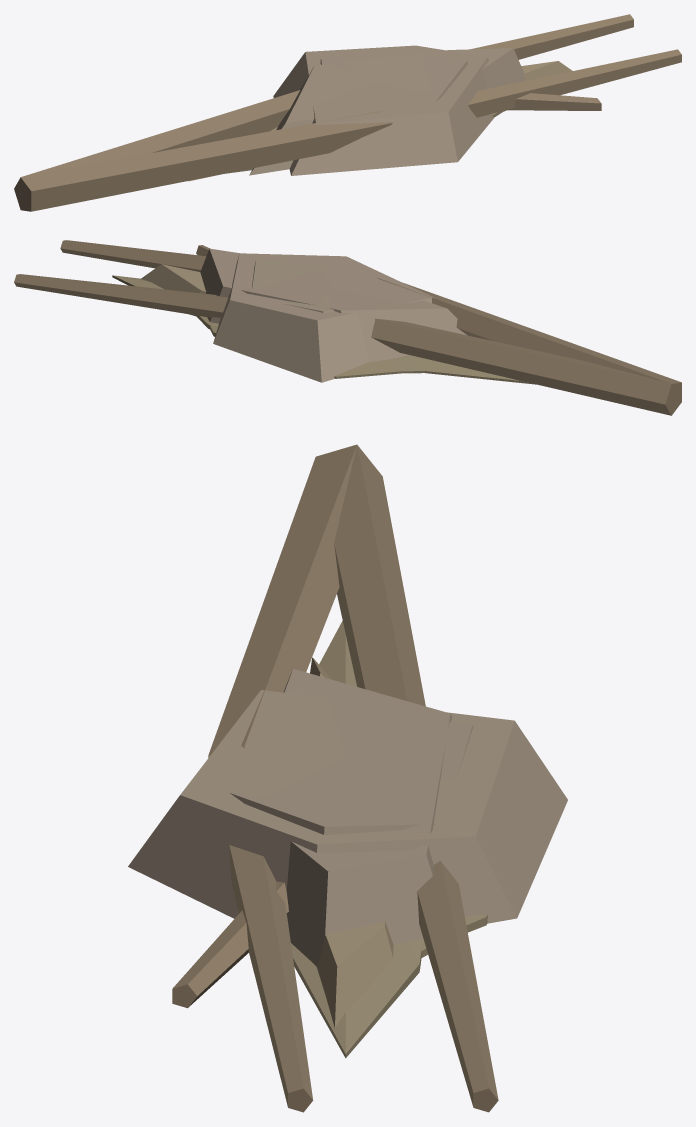
Rendered from ground_fragments.glb.
The picture shows the model from 3 angles, top to bottom: view 1: azimuth 30°, elevation 25°; view 2: azimuth 150°, elevation 25°; view 3: azimuth 270°, elevation 25°; orthographic projection. The views are drawn at different scales.
Parts seen in each view (by area): view 1: Twig1, Stone2, Twig0, Stone1, Stone0, Twig2, Chip1; view 2: Twig0, Stone2, Stone1, Twig1, Stone0, Leaf1, Chip1, Leaf2, Leaf0; view 3: Stone2, Stone1, Twig1, Twig0, Leaf1, Chip1, Stone0, Twig2.
Part boxes in pixels (box(x1,y1,x2,y2)): Twig1: box(21, 49, 681, 211); Stone2: box(273, 45, 494, 175); Twig0: box(14, 14, 633, 211); Stone1: box(249, 48, 525, 175); Stone0: box(320, 56, 467, 101); Twig2: box(505, 93, 601, 110); Chip1: box(188, 61, 572, 181); Twig0: box(14, 274, 681, 415); Stone2: box(213, 253, 433, 382); Stone1: box(200, 248, 466, 362); Twig1: box(60, 240, 681, 383); Stone0: box(251, 259, 334, 312); Leaf1: box(112, 275, 536, 384); Chip1: box(141, 264, 206, 293); Leaf2: box(210, 325, 401, 378); Leaf0: box(196, 315, 424, 373); Stone2: box(128, 690, 567, 923); Stone1: box(244, 669, 451, 966); Twig1: box(208, 444, 356, 1112); Twig0: box(334, 444, 498, 1112); Leaf1: box(291, 621, 422, 1058); Chip1: box(310, 657, 393, 1027); Stone0: box(230, 722, 473, 834); Twig2: box(172, 881, 288, 1008).
Bounding box in the file's own units: 0.31 × 0.023 × 0.095.
